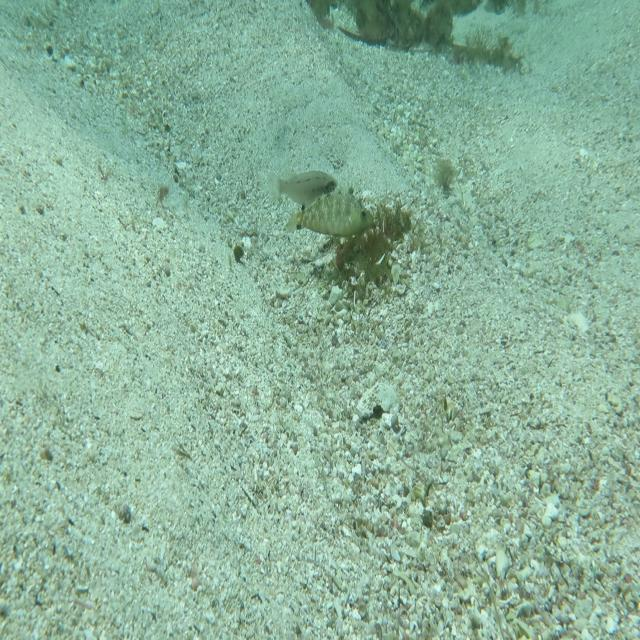ROLL: (280, 171, 378, 243)
female: (264, 164, 339, 213)
nest: (308, 174, 412, 310)
